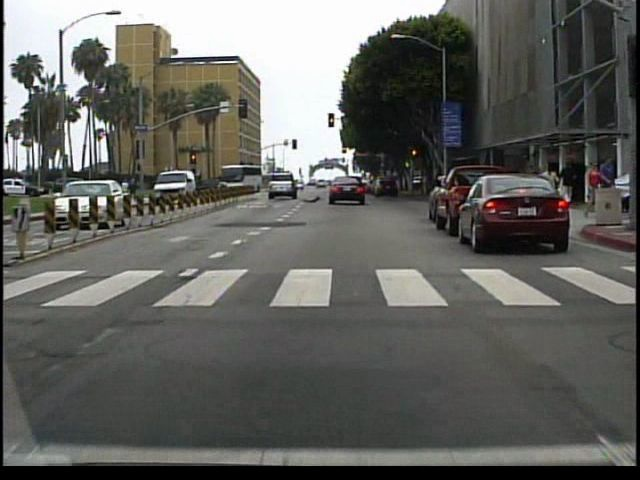person: (579, 159, 600, 223), (559, 160, 576, 207), (597, 156, 614, 192), (129, 177, 143, 196)
